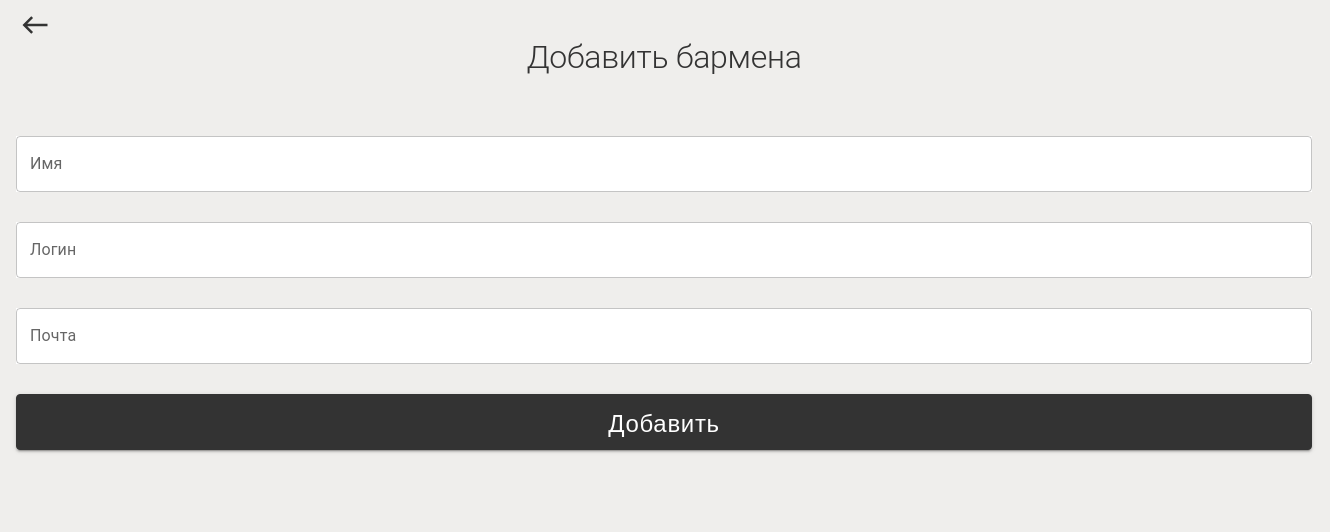
Test: AdminRegisterBarmanForm › отправляет запрос и показывает success
Type "Иван" into the field labelled "Имя" at (664, 164), box [16,136,1312,192]
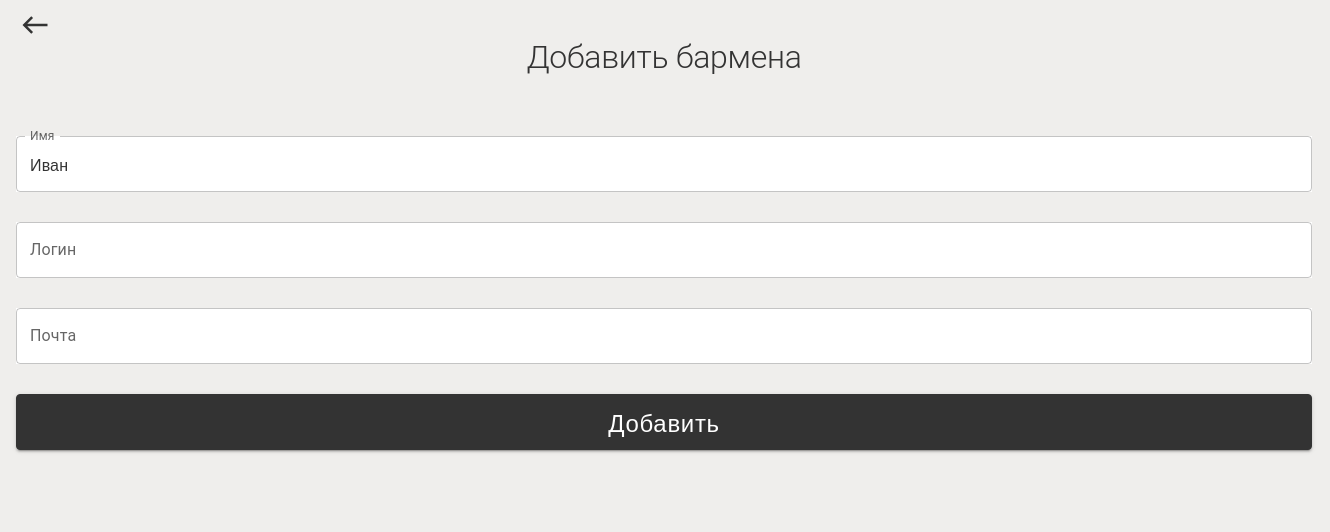
Type "ivan" into the field labelled "Логин" at (664, 250), box [16,222,1312,278]
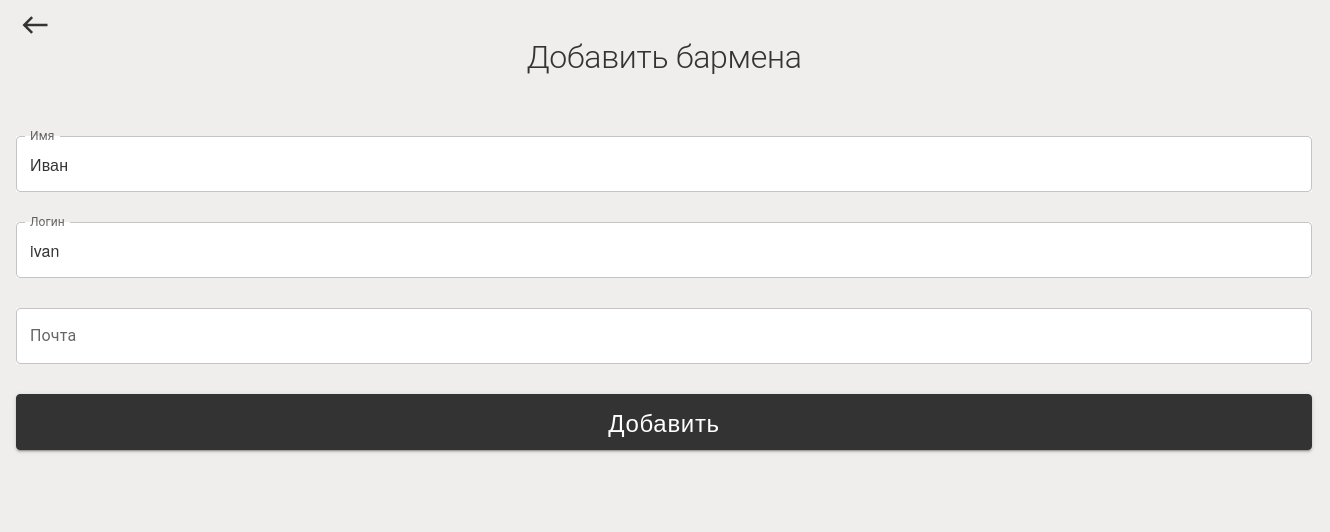
Type "ivan@example.com" into the field labelled "Почта" at (664, 336), box [16,308,1312,364]
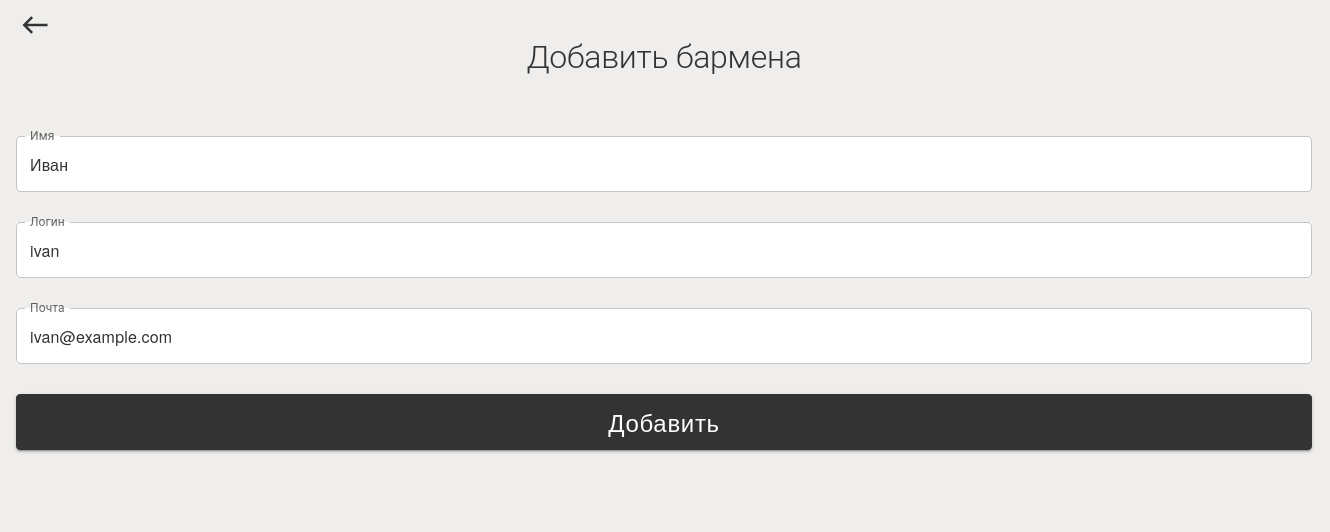
Click the button "Добавить" at (664, 422), box [16,394,1312,450]
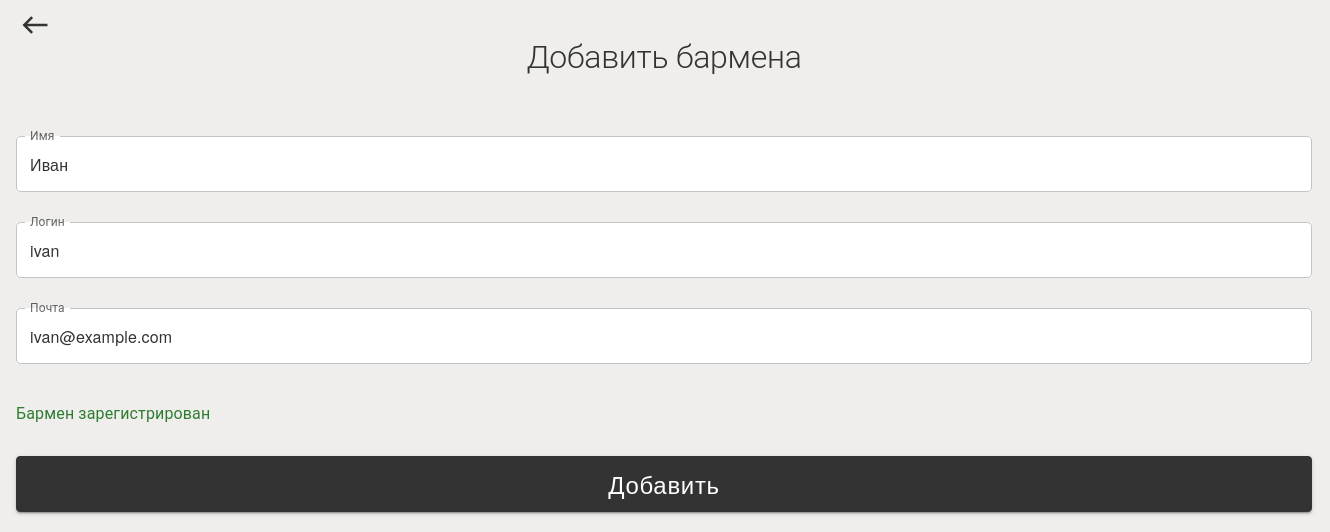
Result: the text "Бармен зарегистрирован" is shown at [16,404,210,423]
